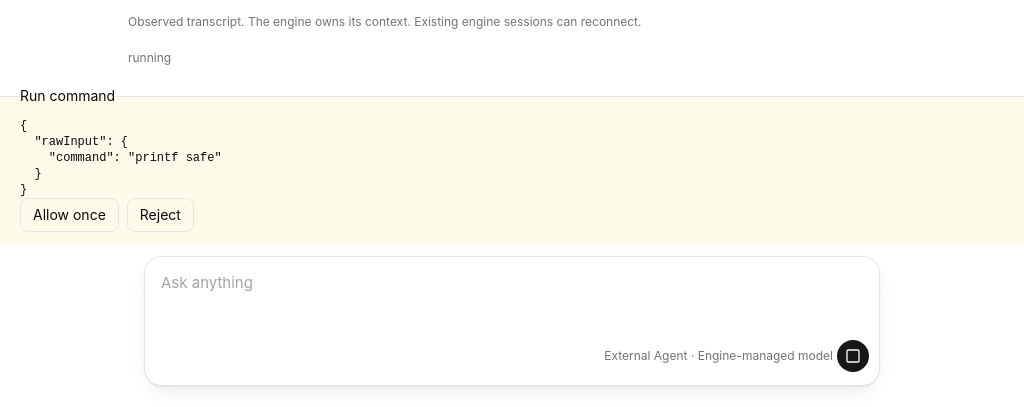
Test: external engine workspace › shows command details and actual ACP options without native-only controls
Check: the text "{ \"rawInput\": { \"command\": \"printf safe\" } }" is shown, box [20,119,222,197]
Click the button "Allow once": {"x": 69, "y": 215} [20,198,119,232]
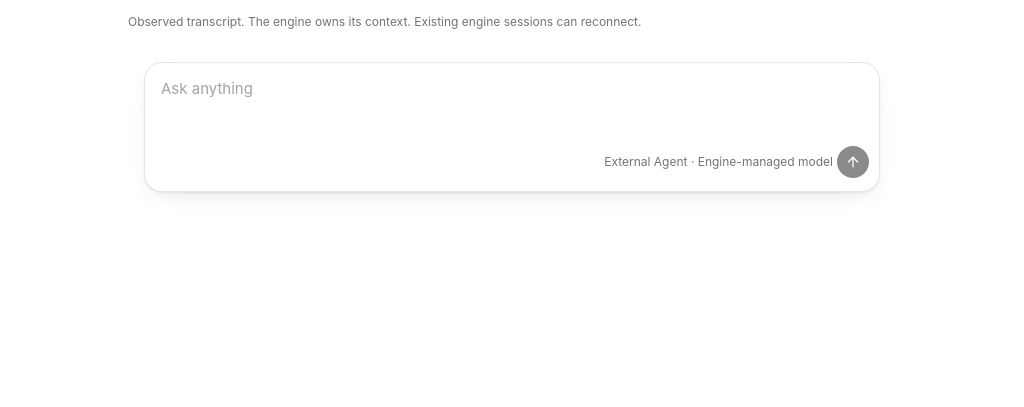
Check: the button "Allow once" is gone
